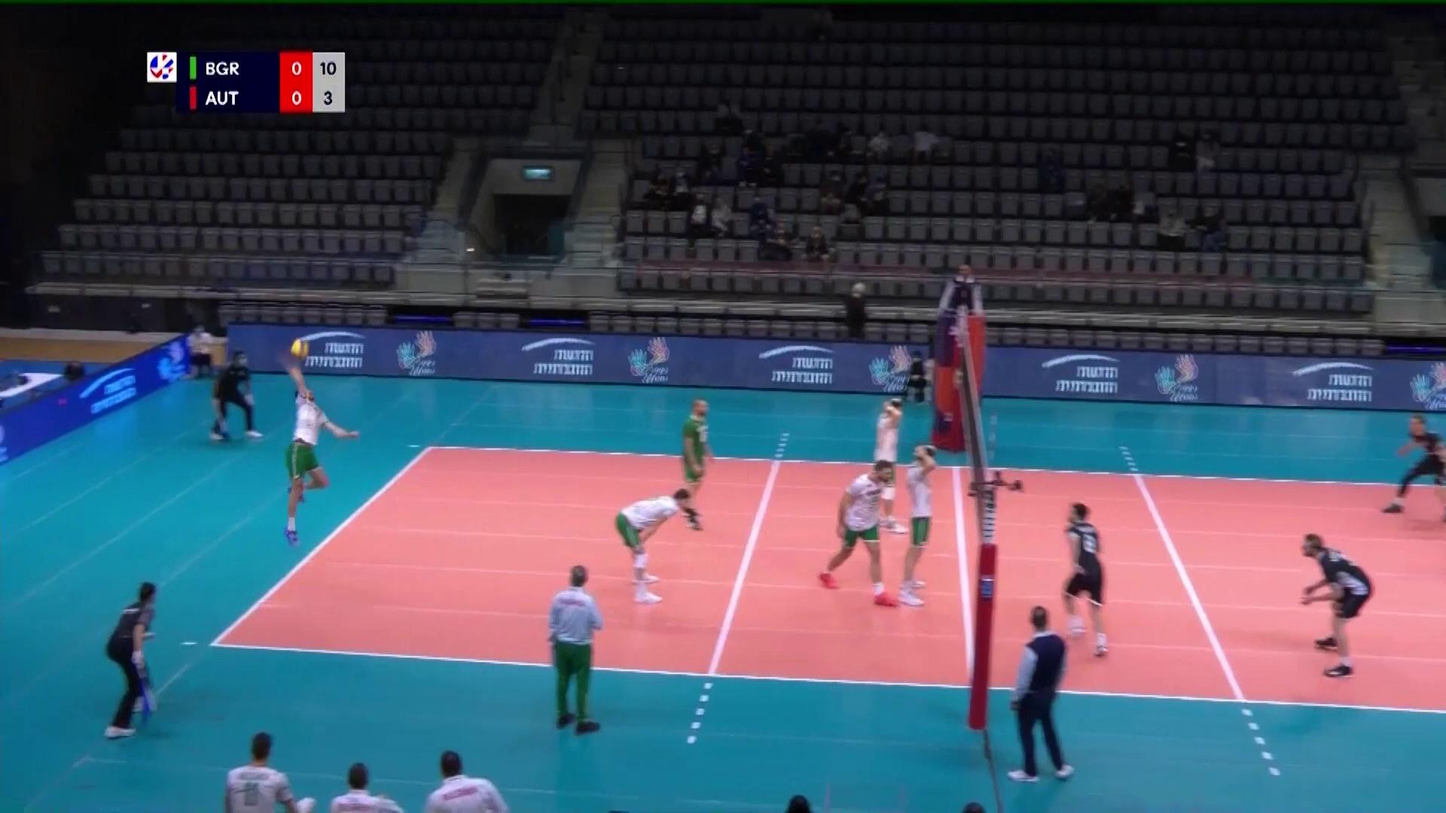ball: (290, 338, 312, 359)
